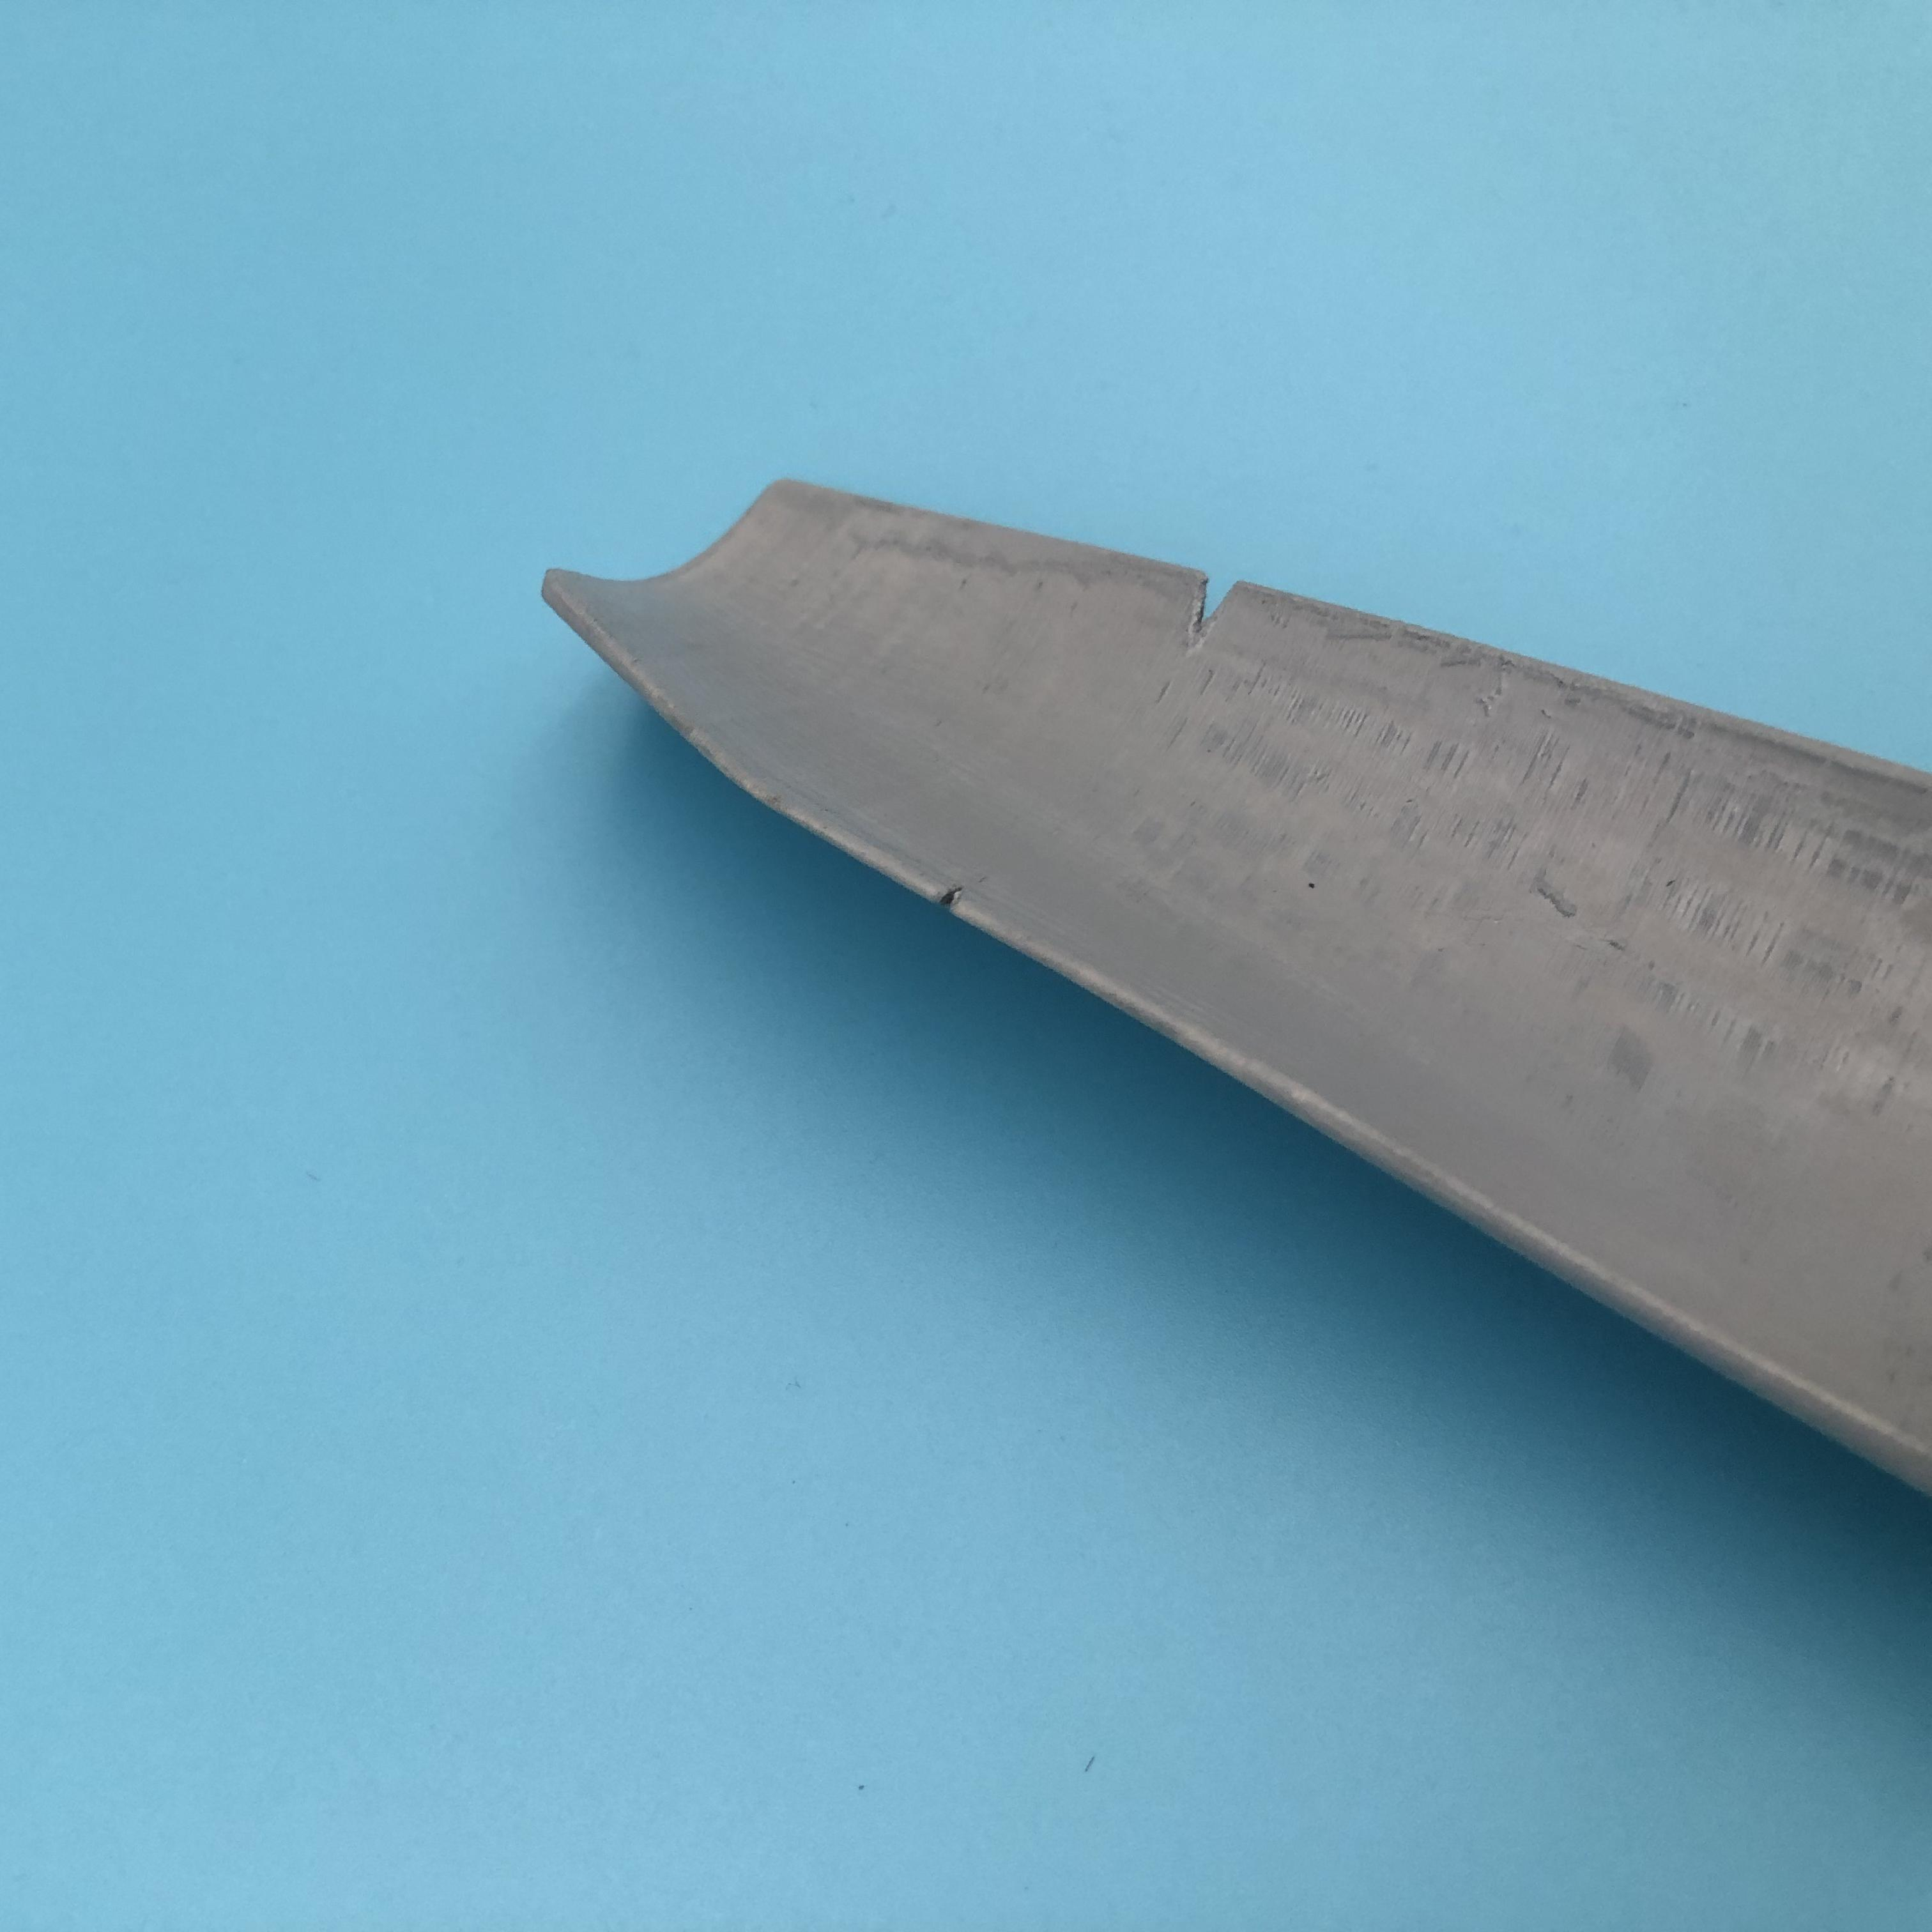groove: (1178, 570, 1249, 662), (931, 870, 991, 916)
